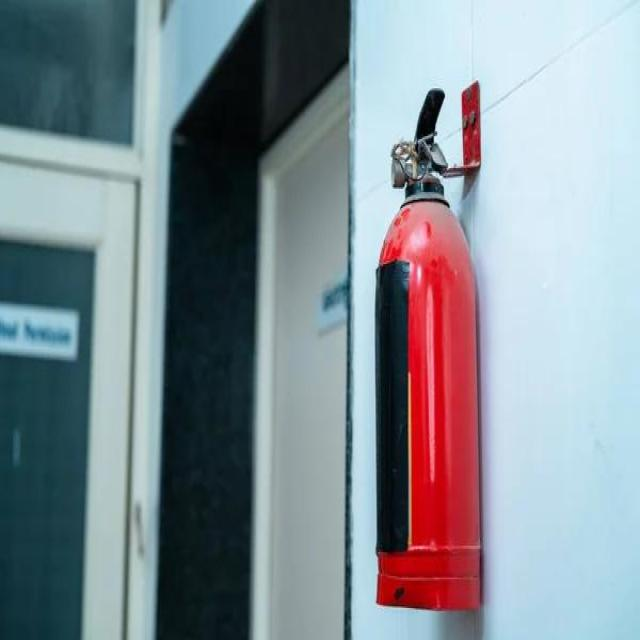fire_extinguisher: (367, 82, 485, 611)
